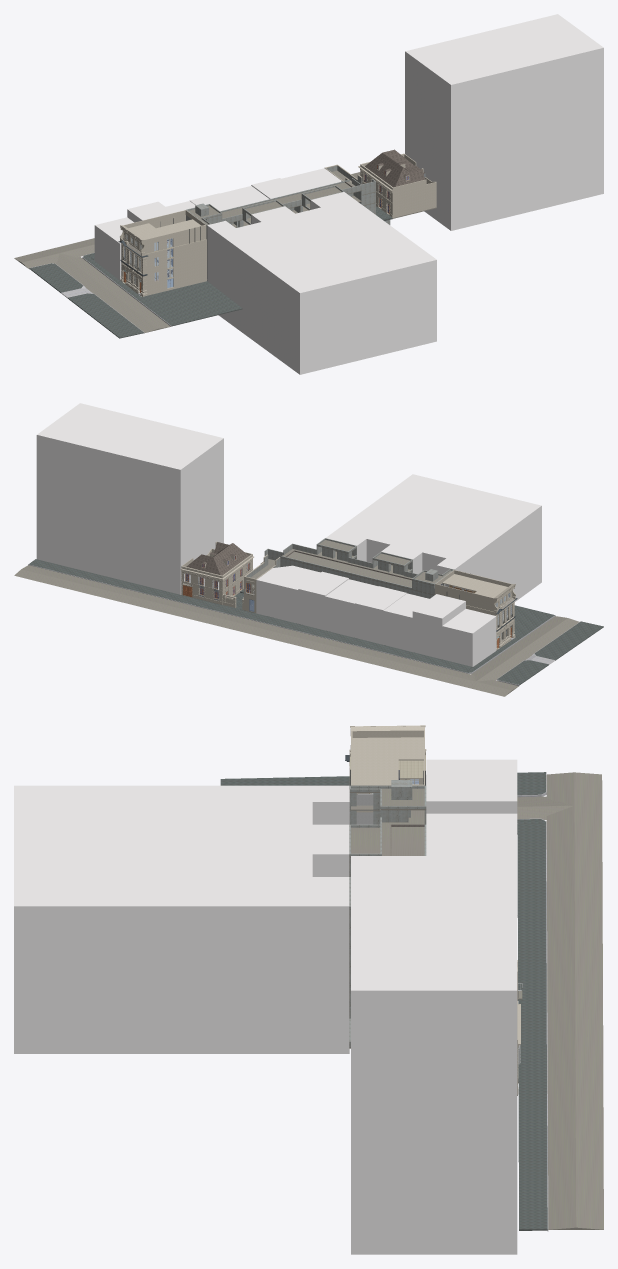
Rendered from edificio.glb.
3 views of the same model, one above another, from view 1: azimuth 30°, elevation 25°; view 2: azimuth 150°, elevation 25°; view 3: azimuth 270°, elevation 25° (orthographic). The views are drawn at different scales.
Visible parts, largest first — view 1: edificio; view 2: edificio; view 3: edificio.
Part boxes in pixels (x1=…): edificio: x1=14, y1=14, x2=603, y2=374; edificio: x1=14, y1=403, x2=603, y2=696; edificio: x1=14, y1=725, x2=603, y2=1254.
Bounding box in the file's own units: 137 × 40.64 × 74.26.
Materials: 56 (37 with a texture image).
